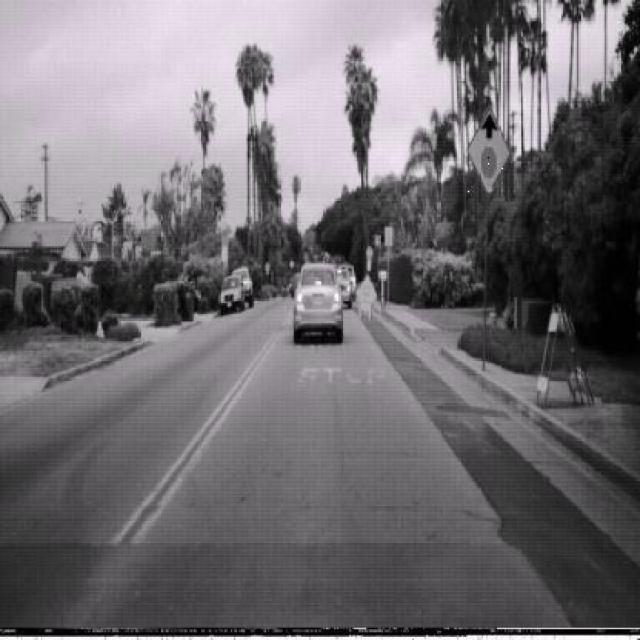stopAhead: (466, 105, 511, 196)
